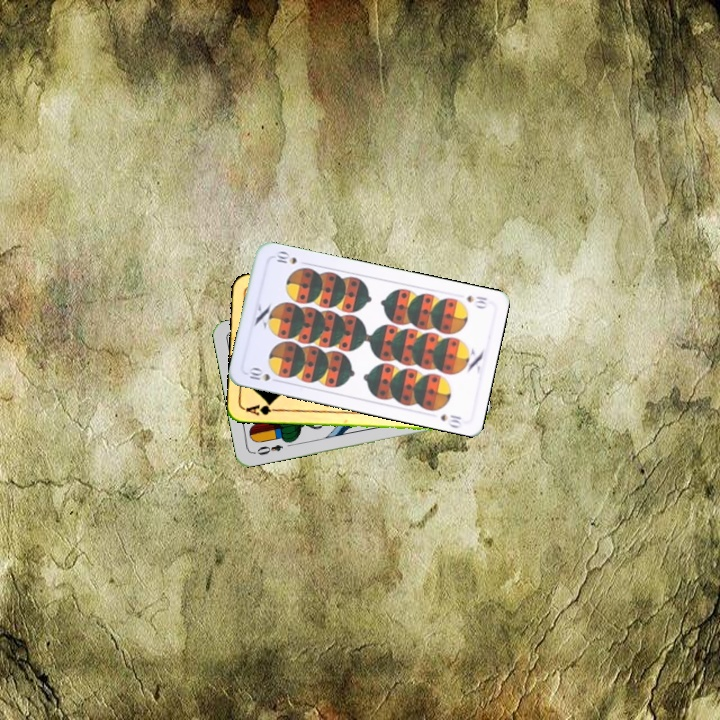EO: (253, 440, 286, 458)
GA: (242, 399, 282, 418)
S10: (245, 364, 283, 385), (462, 291, 490, 311)
